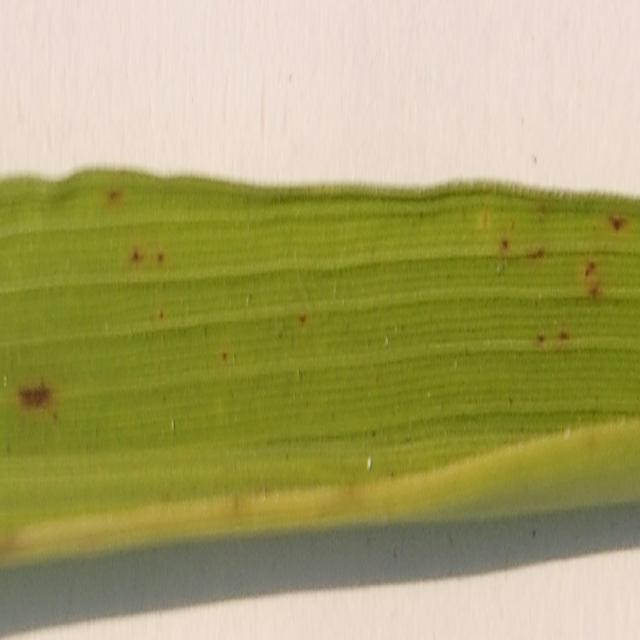Brownspot: (19, 381, 52, 409), (609, 215, 627, 230), (106, 189, 122, 204), (588, 282, 602, 299), (130, 247, 143, 264), (584, 260, 596, 277), (527, 247, 544, 259), (500, 237, 509, 252), (558, 329, 569, 341), (156, 251, 164, 264), (298, 313, 307, 324), (536, 333, 544, 344), (220, 351, 228, 361), (158, 309, 165, 320)
